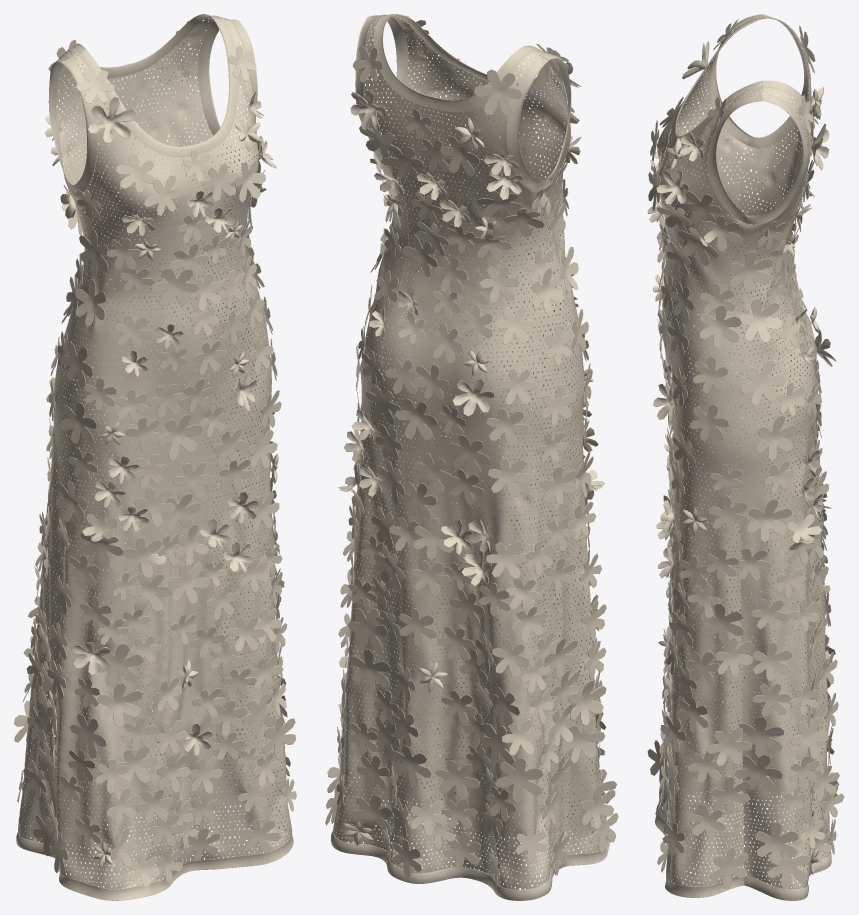
Rendered from hollowed_floral_dress.glb.
3 views of the same model, side by side, from view 1: azimuth 30°, elevation 25°; view 2: azimuth 150°, elevation 25°; view 3: azimuth 270°, elevation 25° (orthographic). The views are drawn at different scales.
Parts seen in each view (by area): view 1: Object_14, Object_16, Object_7, Object_8, Object_18, Object_10, Object_19, Object_15, Object_17, Object_9, Object_11, Object_13 (+7 smaller); view 2: Object_16, Object_14, Object_4, Object_5, Object_6, Object_2, Object_3, Object_9, Object_15, Object_11, Object_10, Object_20 (+6 smaller); view 3: Object_14, Object_16, Object_9, Object_11, Object_19, Object_8, Object_18, Object_6, Object_10, Object_2, Object_15, Object_5 (+7 smaller).
Part boxes in pixels (bbox=[...]): Object_14: bbox=[55, 19, 291, 889]; Object_16: bbox=[18, 16, 258, 845]; Object_7: bbox=[73, 91, 283, 886]; Object_8: bbox=[74, 45, 296, 861]; Object_18: bbox=[47, 86, 287, 876]; Object_10: bbox=[62, 135, 276, 772]; Object_19: bbox=[48, 163, 286, 866]; Object_15: bbox=[48, 14, 293, 900]; Object_17: bbox=[54, 96, 258, 755]; Object_9: bbox=[37, 49, 295, 776]; Object_11: bbox=[36, 132, 277, 781]; Object_13: bbox=[76, 18, 257, 158]; Object_16: bbox=[333, 15, 571, 889]; Object_14: bbox=[370, 14, 605, 854]; Object_4: bbox=[352, 46, 572, 867]; Object_5: bbox=[340, 69, 606, 763]; Object_6: bbox=[337, 116, 568, 822]; Object_2: bbox=[336, 119, 559, 877]; Object_3: bbox=[338, 109, 576, 887]; Object_9: bbox=[327, 90, 577, 792]; Object_15: bbox=[355, 15, 609, 866]; Object_11: bbox=[339, 70, 596, 845]; Object_10: bbox=[325, 73, 579, 825]; Object_20: bbox=[330, 58, 600, 900]; Object_14: bbox=[656, 16, 762, 886]; Object_16: bbox=[735, 16, 829, 889]; Object_9: bbox=[660, 124, 829, 865]; Object_11: bbox=[648, 157, 818, 876]; Object_19: bbox=[649, 120, 752, 766]; Object_8: bbox=[647, 19, 748, 888]; Object_18: bbox=[660, 87, 822, 813]; Object_6: bbox=[657, 128, 837, 833]; Object_10: bbox=[656, 170, 836, 888]; Object_2: bbox=[660, 160, 844, 862]; Object_15: bbox=[655, 14, 810, 897]; Object_5: bbox=[666, 25, 828, 681].
Size of the model in its own units: 391 by 1300 by 288.
1 material, 1 textured.
